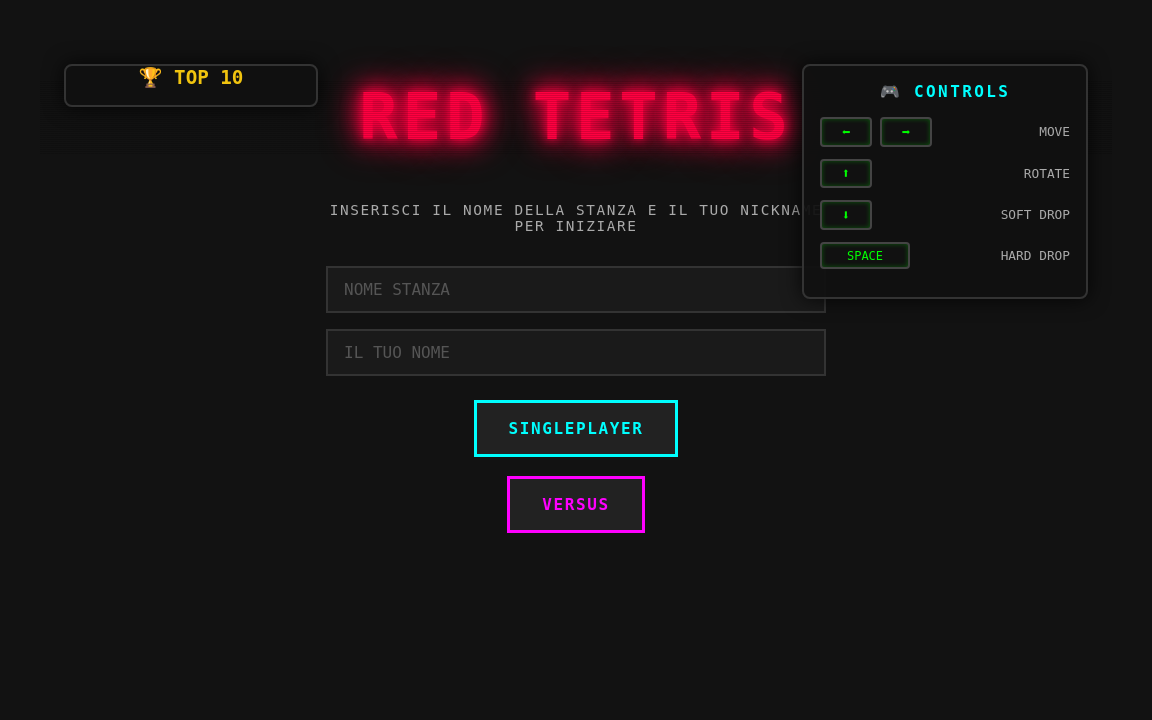
Test: Home Component › Singleplayer Options › toggles options panel when singleplayer button is clicked
The image size is (1152, 720).
Click the button with class "single-btn" at (576, 428), box 474,400 -> 678,457
(page scrolled)
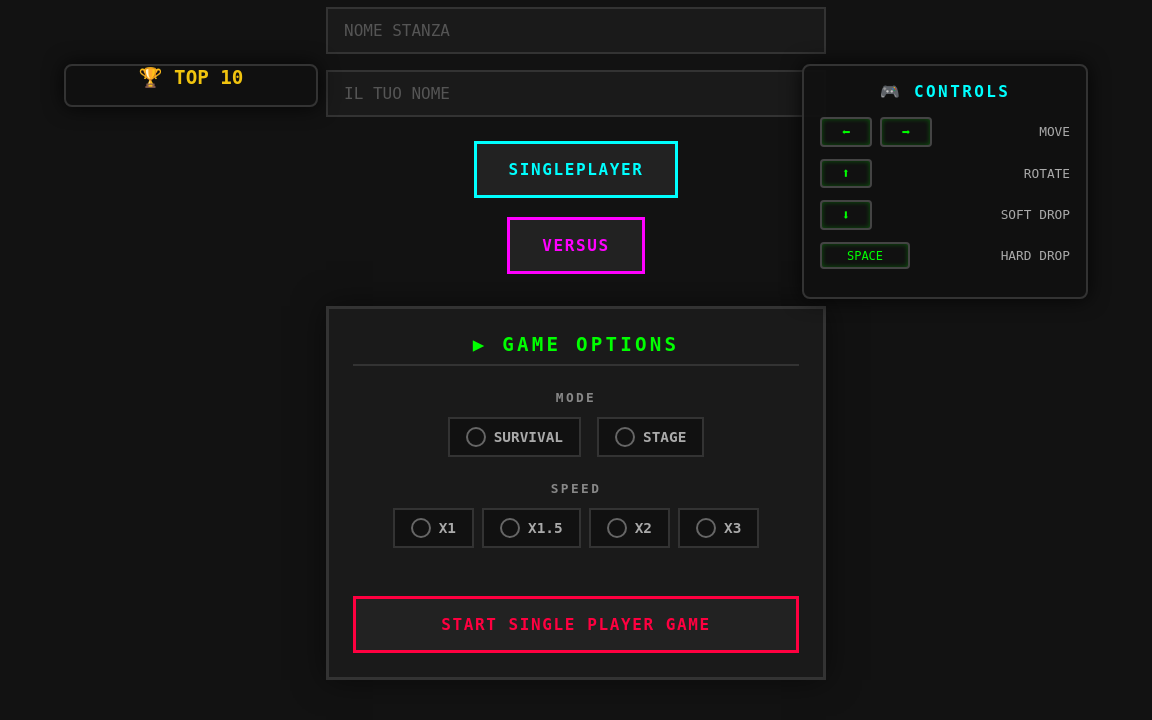
Expected: the element with class "options-panel" is shown, 326,306 -> 826,680
